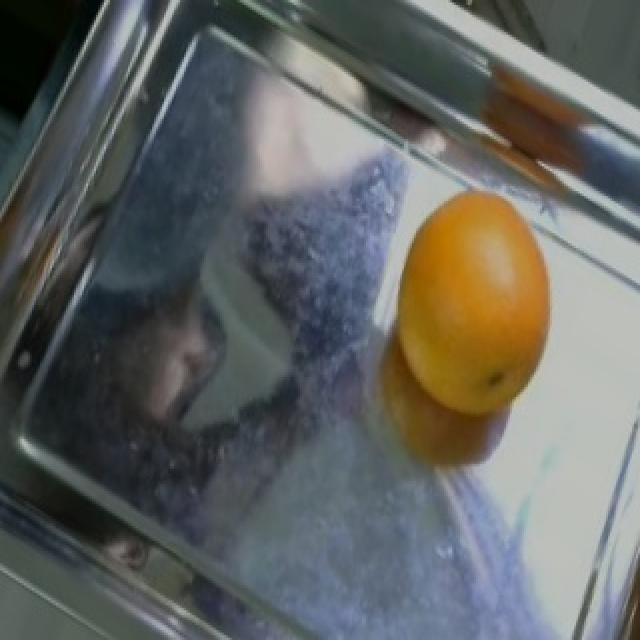Fruit: (360, 174, 586, 491)
